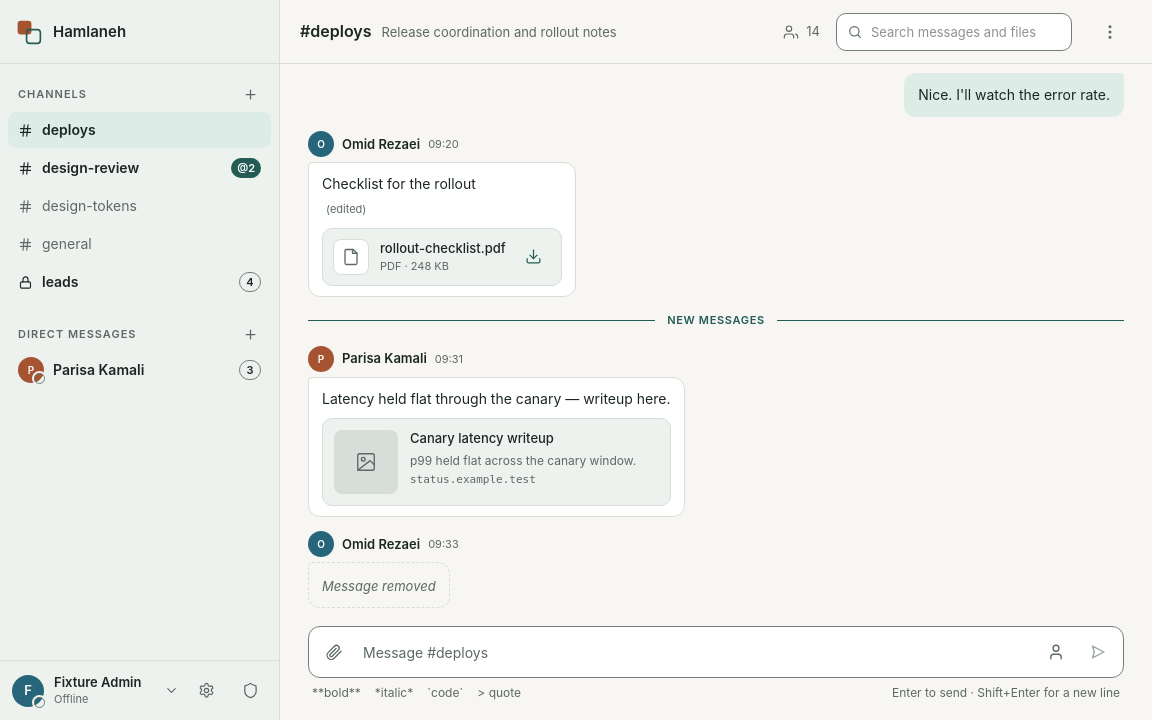
Scenario: sending › leaves the channel in the order the messages were composed
(page scrolled)
In the text box labelled "Message #deploys": [695, 653] box [359,637,1031,669], type "First."
Then press Enter
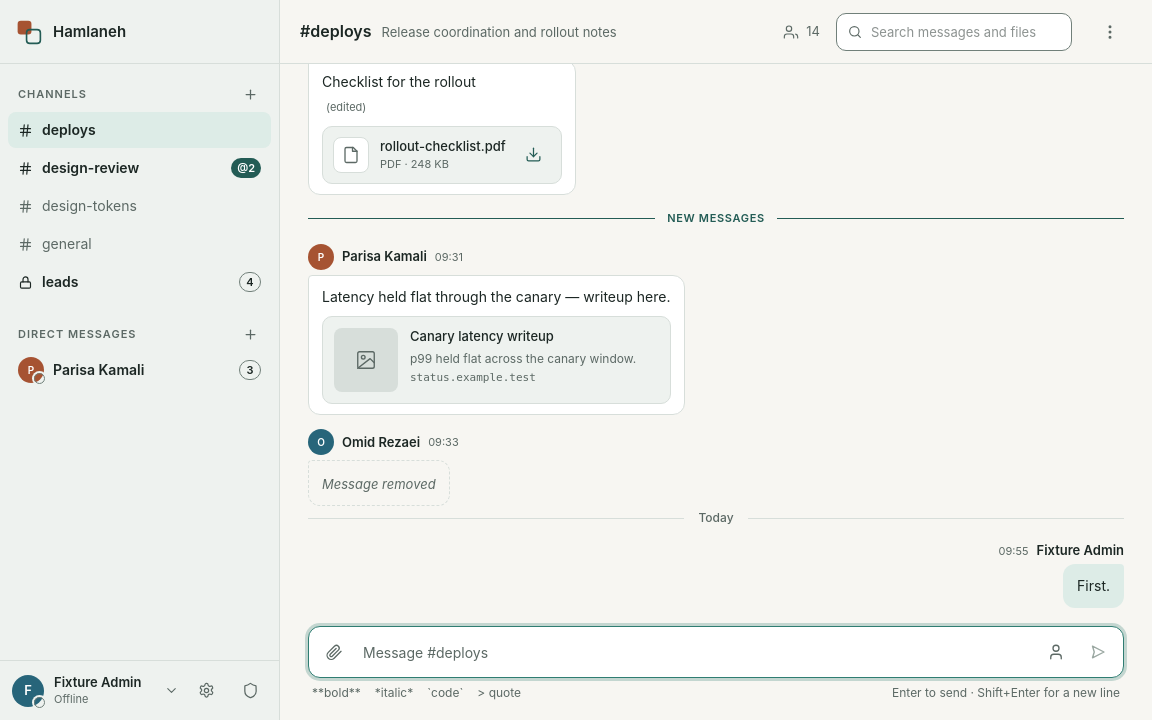
In the text box labelled "Message #deploys": [695, 653] box [359,637,1031,669], type "Second."
Then press Enter
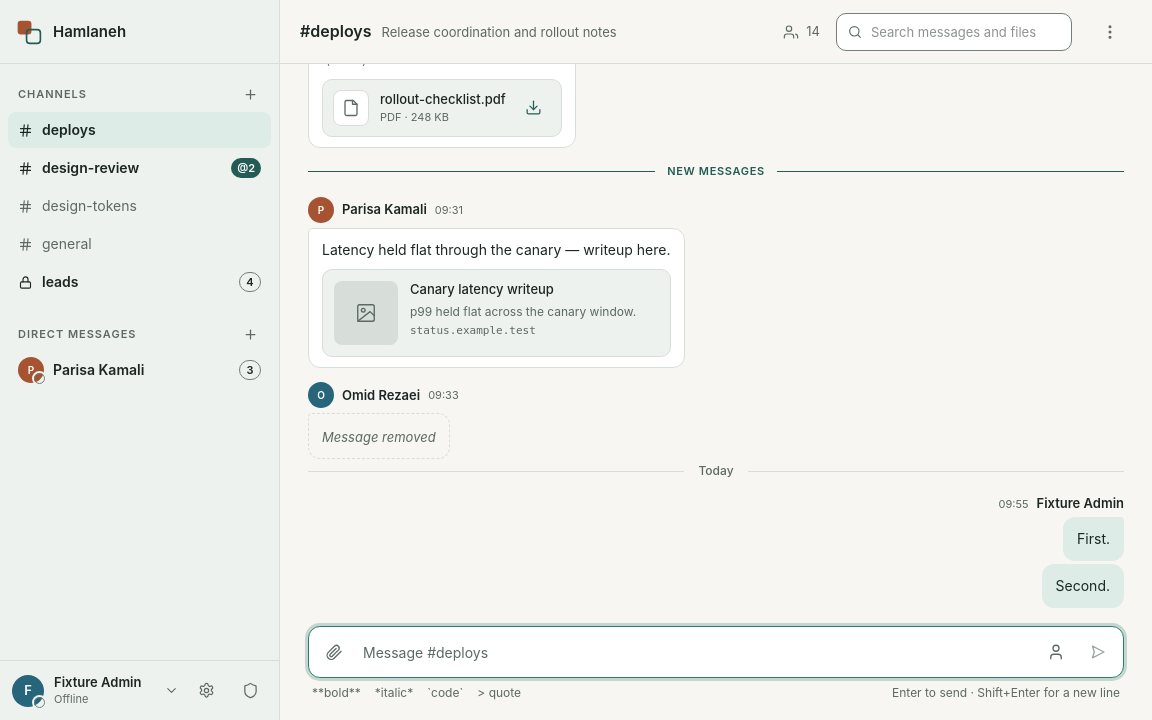
In the text box labelled "Message #deploys": [695, 653] box [359,637,1031,669], type "Third."
Then press Enter
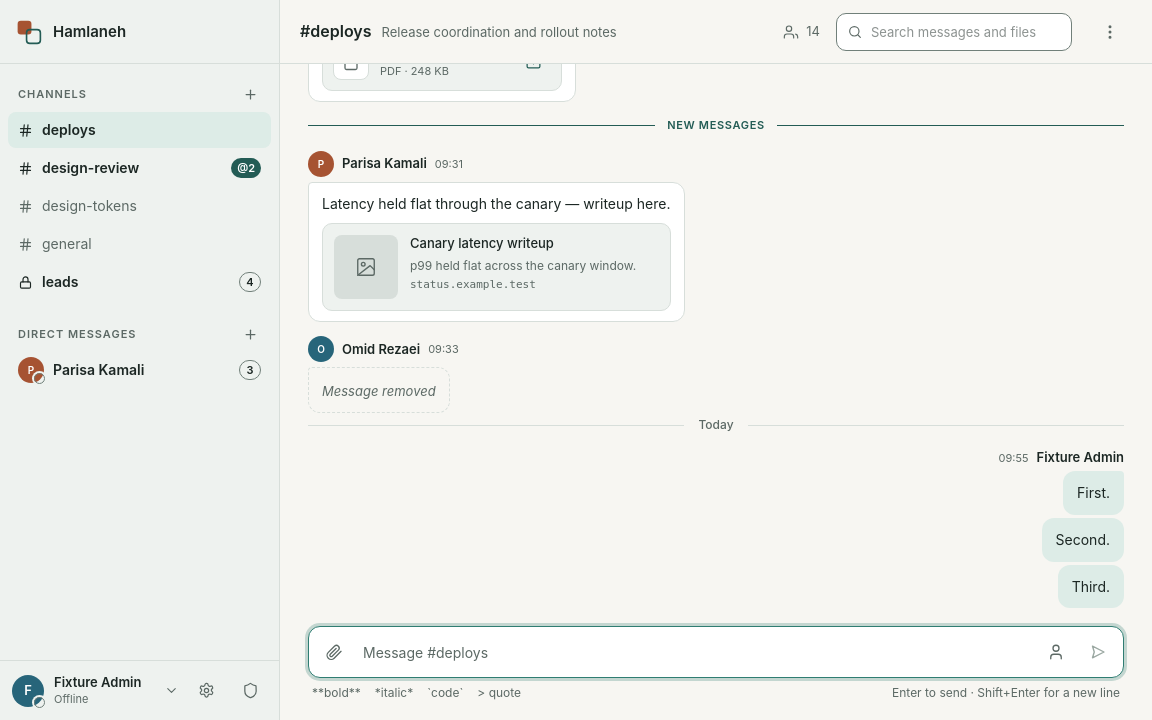
Expected: the text "Third." is shown, [1072,576,1110,597]
